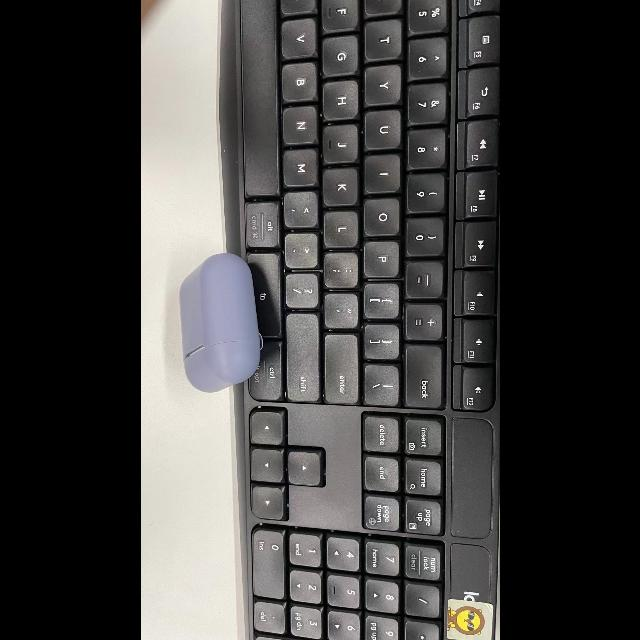airpods: (178, 254, 260, 393)
